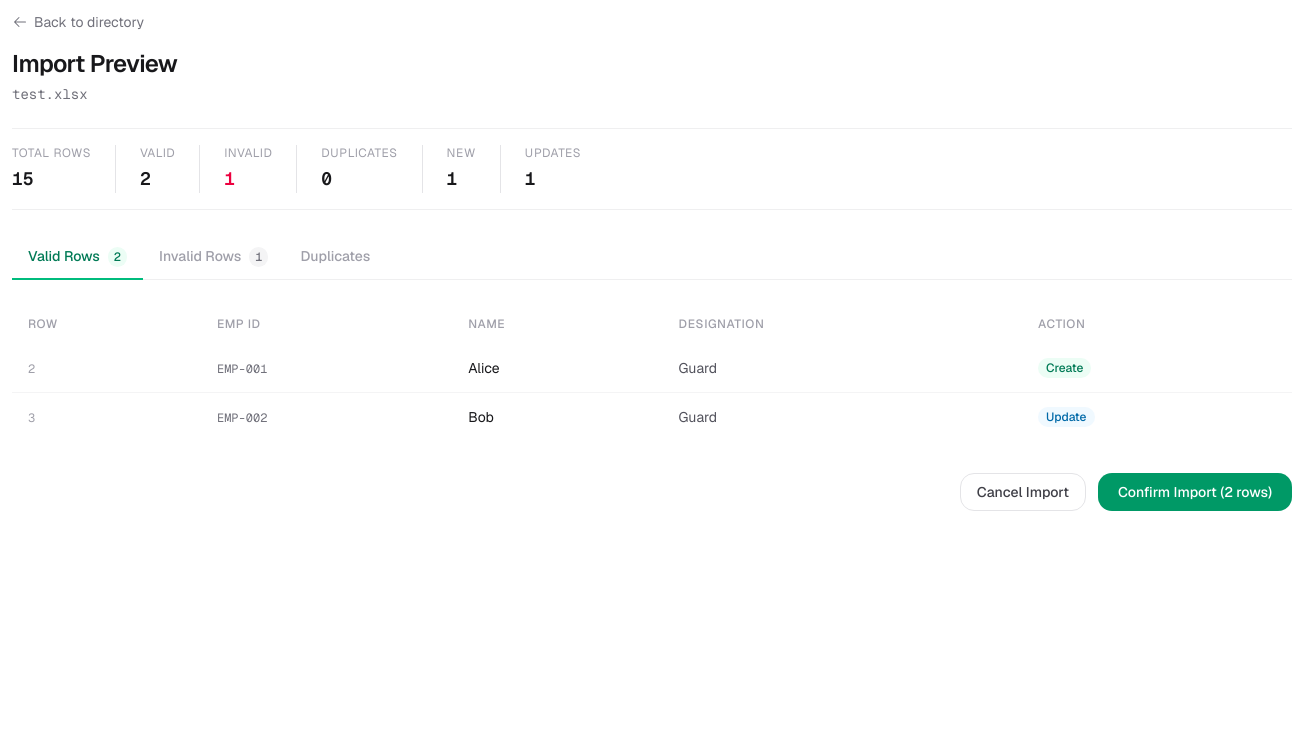
it: ImportPreviewClient › summary strip › updates Valid count to 3 and Invalid count to 0 after a row is fixed
Click the tab "Invalid Rows1": (214, 257) [143,234,284,280]
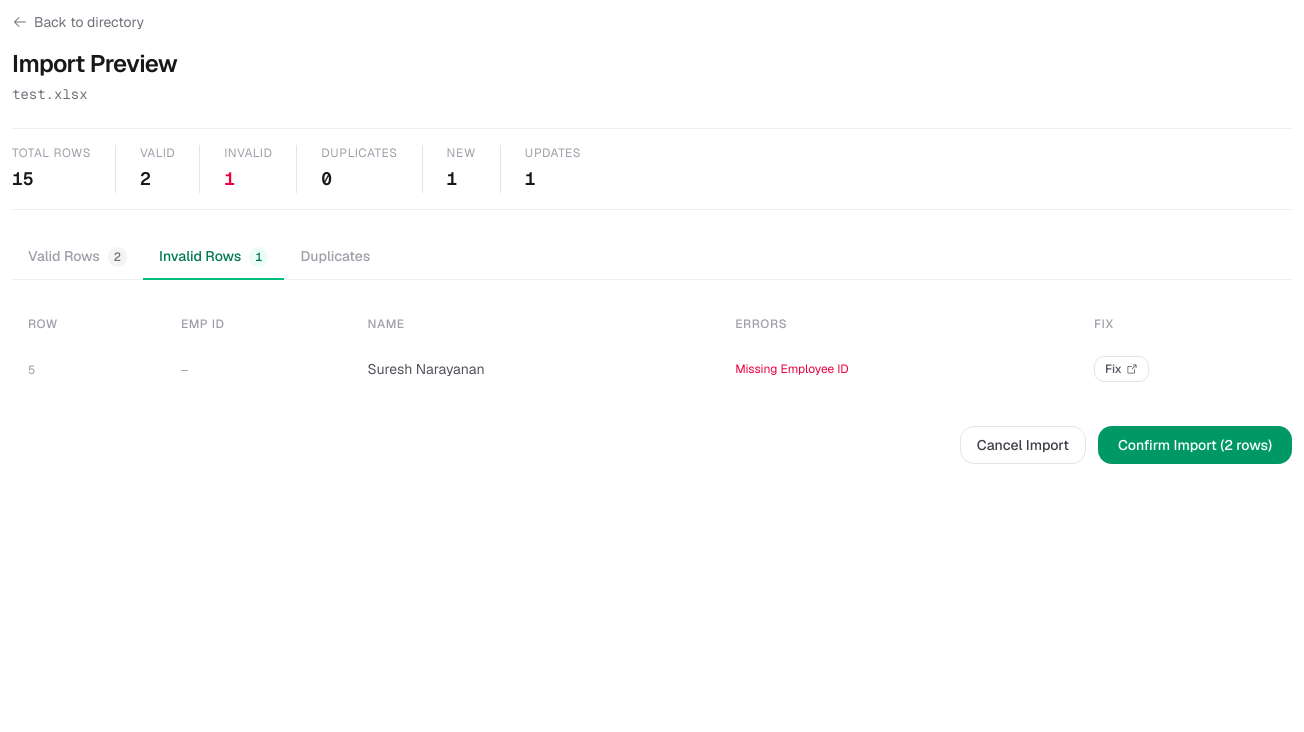
Note: Click the Fix button for the invalid row
Click the button "Fix": (1121, 369) [1094,356,1149,382]
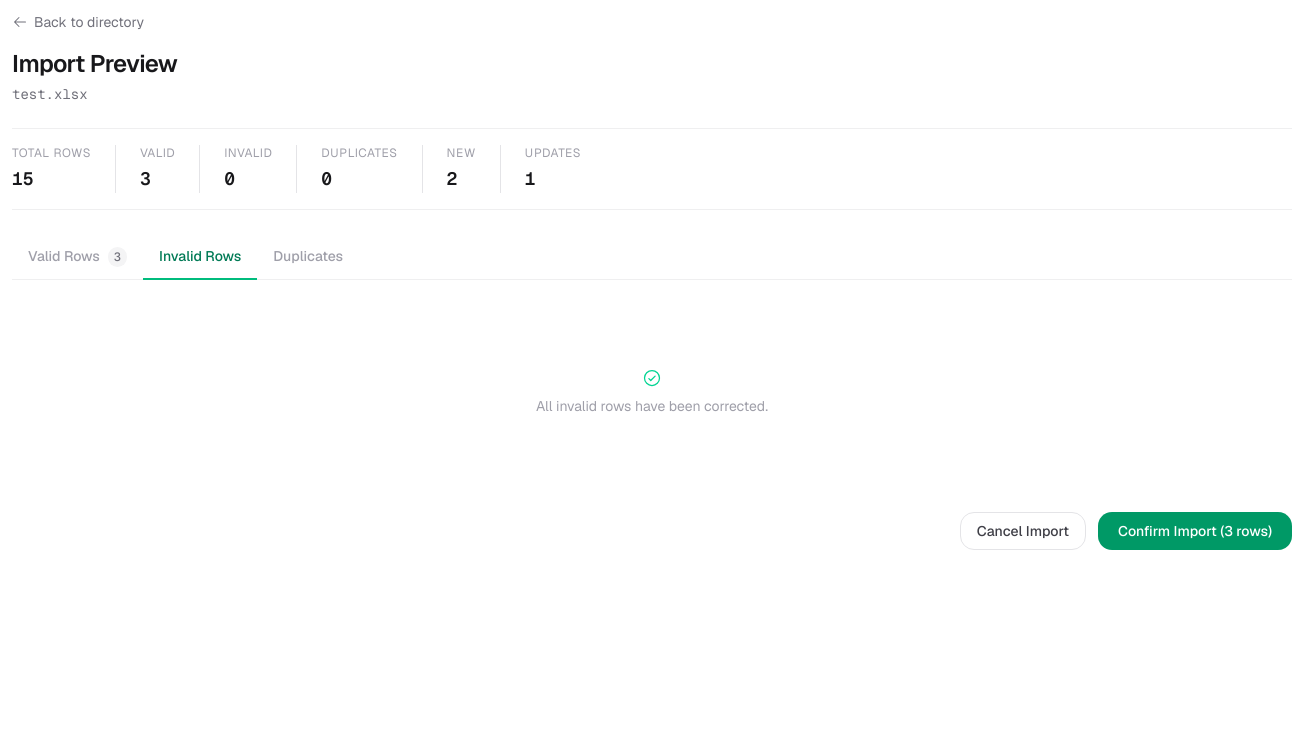
Expected: the text "3" next to "15" is shown, [140,167,151,190]
